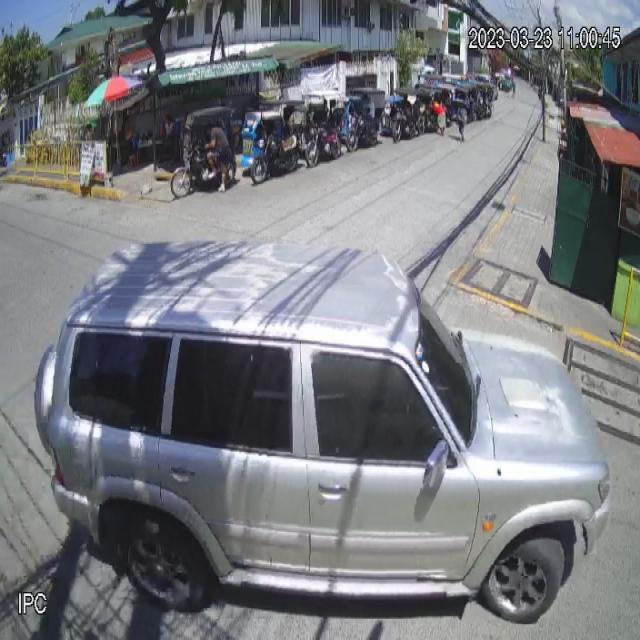Car: (32, 235, 615, 628)
